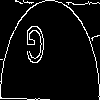G: (25, 25, 45, 73)
